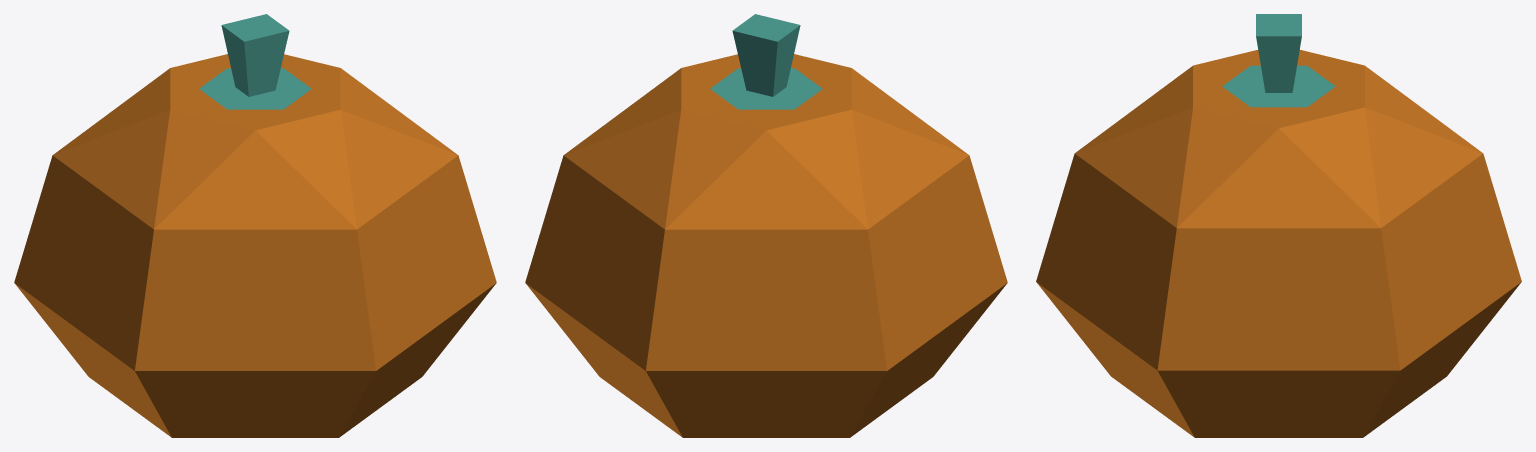
File: pumpkin.obj
3 renders of one model, left to right at view 1: azimuth 30°, elevation 25°; view 2: azimuth 150°, elevation 25°; view 3: azimuth 270°, elevation 25°, orthographic.
Visible parts, largest first — view 1: pumpkin; view 2: pumpkin; view 3: pumpkin.
Boxes of the visible parts, bbox=[...] form: pumpkin: bbox=[14, 14, 496, 437]; pumpkin: bbox=[525, 14, 1007, 437]; pumpkin: bbox=[1036, 14, 1521, 437].
Size of the model in its own units: 2.94 by 2.71 by 3.4.
